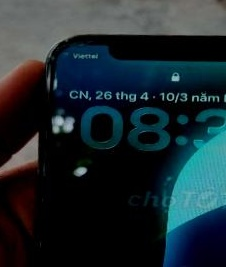scratch: (36, 28, 95, 64), (26, 154, 50, 203), (28, 231, 44, 252)
